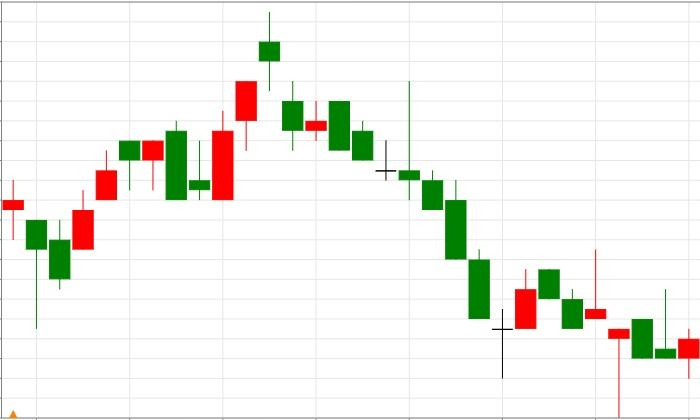bearish_engulfing_fall: (48, 121, 188, 290)
morning_star_rise: (258, 12, 537, 378)
